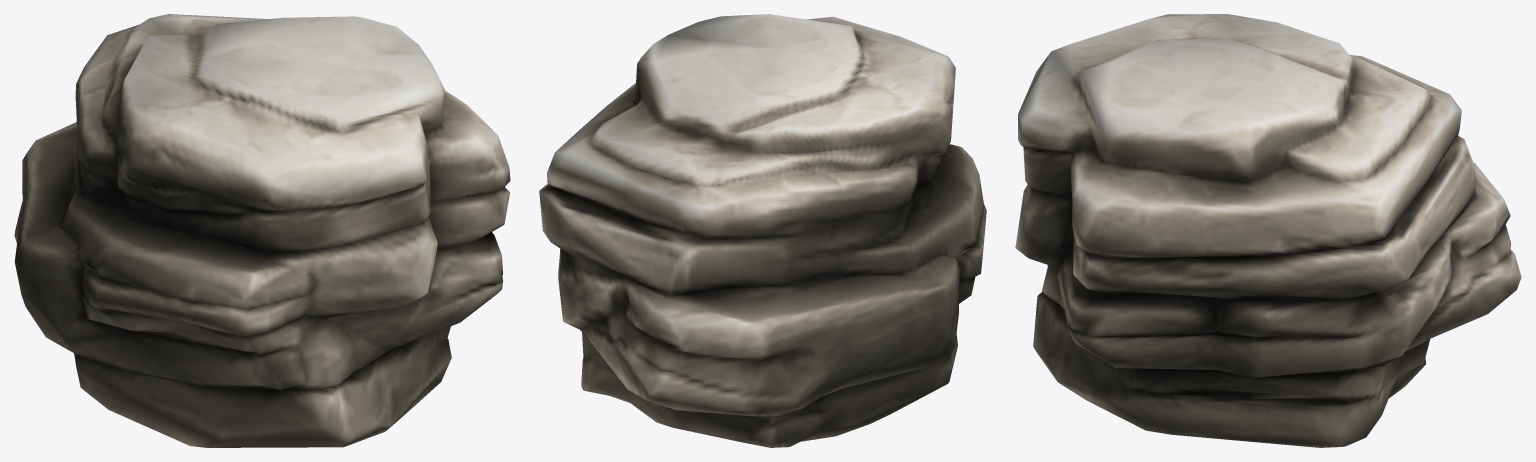
File: rock_large_02.glb
The picture shows the model from 3 angles, left to right: view 1: azimuth 30°, elevation 25°; view 2: azimuth 150°, elevation 25°; view 3: azimuth 270°, elevation 25°; orthographic projection. The views are drawn at different scales.
Parts seen in each view (by area): view 1: rock; view 2: rock; view 3: rock.
Part boxes in pixels (x1=…): rock: x1=14, y1=14, x2=510, y2=447; rock: x1=539, y1=14, x2=986, y2=447; rock: x1=1015, y1=14, x2=1521, y2=447.
Size of the model in its own units: 3.12 by 2.42 by 3.5.
1 material, 1 textured.
